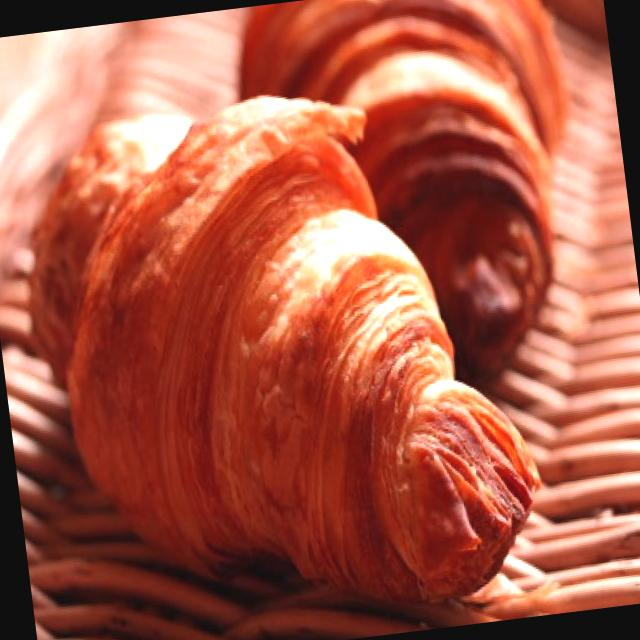Croissant: (0, 35, 542, 639)
